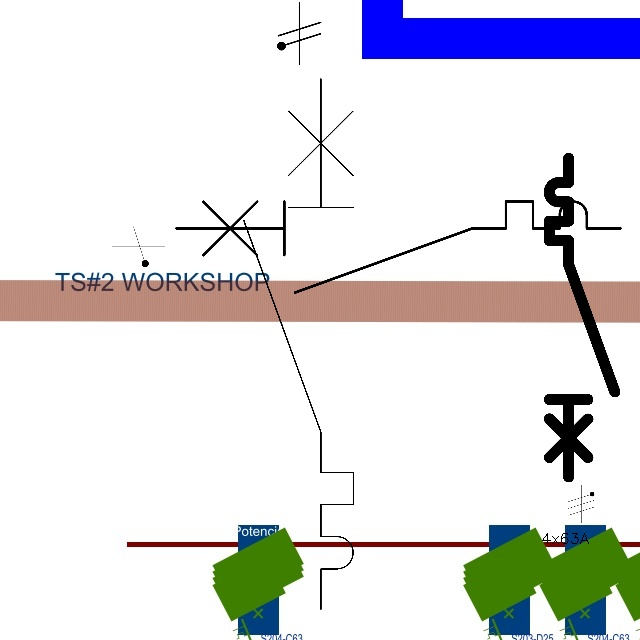interruptor_termomagnetico: (230, 65, 367, 623), (164, 190, 631, 304), (541, 150, 623, 485)
